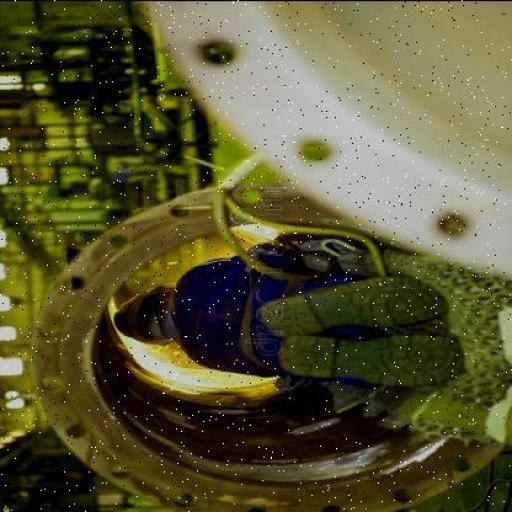person: (96, 238, 486, 412)
safety_shoe: (263, 276, 446, 337), (277, 334, 466, 382)
